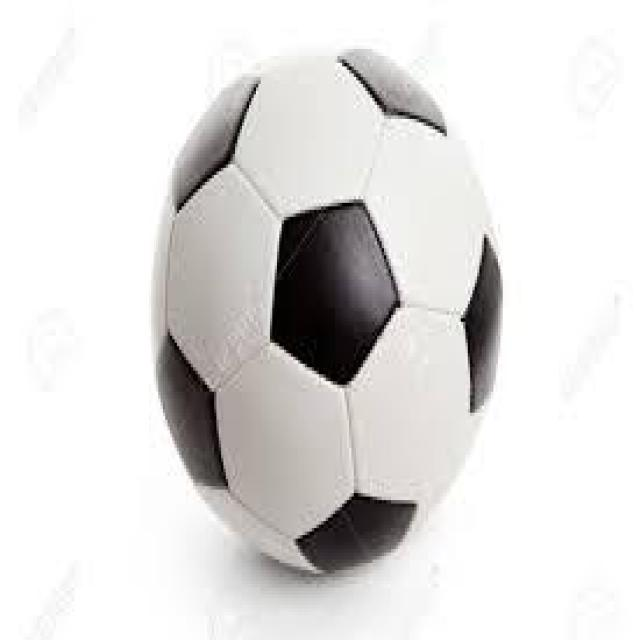Soccer Ball: (149, 53, 503, 570)
